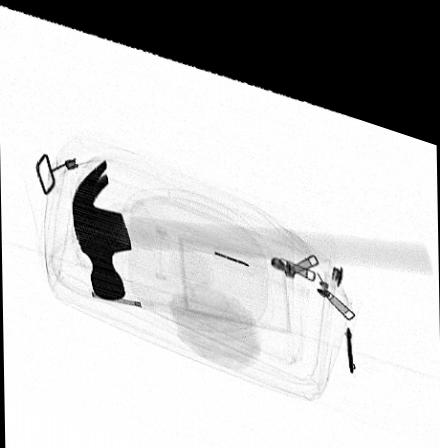Hammer: (70, 150, 430, 292)
